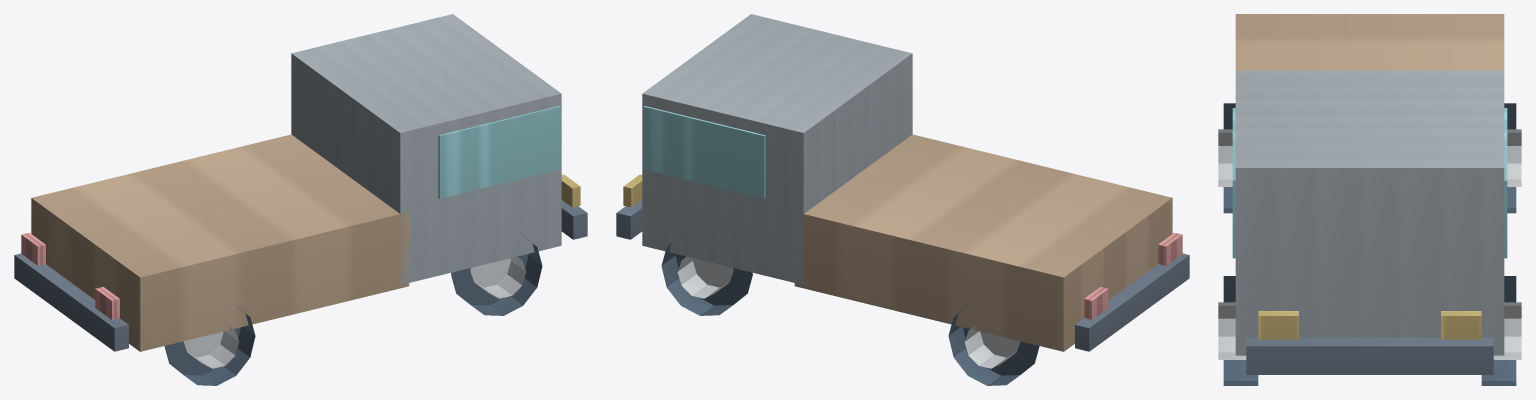
The model's file is pickup.glb.
The picture shows the model from 3 angles, left to right: view 1: azimuth 30°, elevation 25°; view 2: azimuth 150°, elevation 25°; view 3: azimuth 270°, elevation 25°; orthographic projection. The views are drawn at different scales.
Visible parts, largest first — view 1: pickup; view 2: pickup; view 3: pickup.
Boxes of the visible parts, x1,y1,x2,y2 form: pickup: [14, 14, 587, 385]; pickup: [616, 14, 1189, 385]; pickup: [1218, 14, 1521, 385].
Bounding box in the file's own units: 4.64 × 1.91 × 2.09.
Materials: 1 (1 with a texture image).
